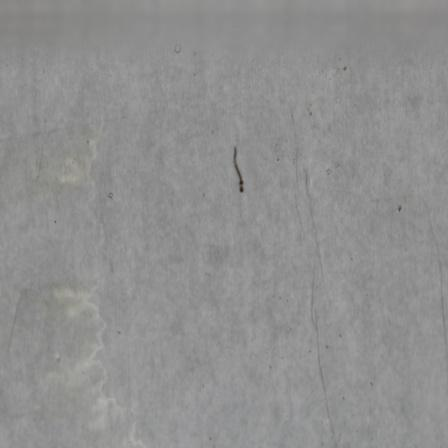Jentik-Nyamuk: (228, 144, 249, 195)
